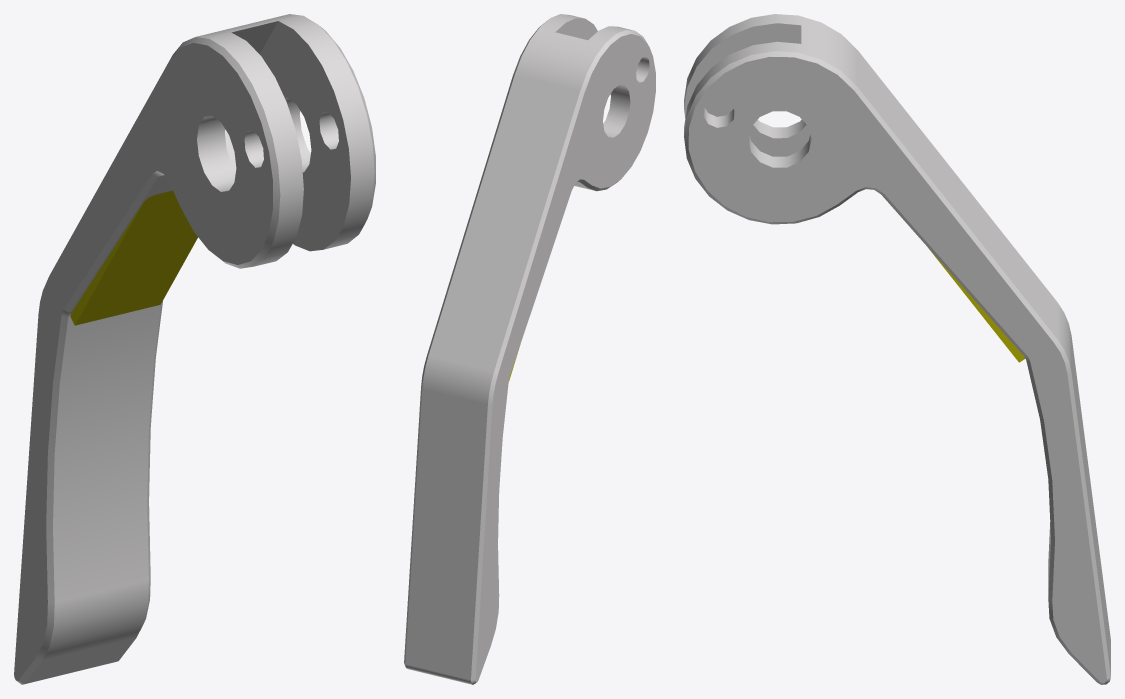
Rendered from RARM_THUMB_LINK_mesh.dae.
3 renders of one model, left to right at view 1: azimuth 30°, elevation 25°; view 2: azimuth 150°, elevation 25°; view 3: azimuth 270°, elevation 25°, orthographic. The views are drawn at different scales.
Parts seen in each view (by area): view 1: サーフェス1, サーフェス1_ncl1_1; view 2: サーフェス1; view 3: サーフェス1, サーフェス1_ncl1_1.
Boxes of the visible parts, x1,y1,x2,y2 form: サーフェス1: (14,14,375,684); サーフェス1_ncl1_1: (70,190,197,325); サーフェス1: (404,14,655,684); サーフェス1: (684,14,1110,684); サーフェス1_ncl1_1: (929,249,1025,362).
Size of the model in its own units: 0.012 by 0.0535 by 0.0876.
